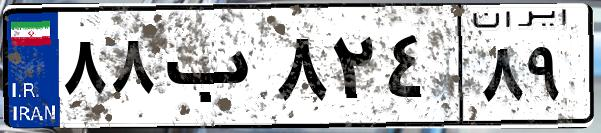2: (330, 28, 385, 110)
4: (385, 28, 445, 110)
8: (270, 28, 330, 110), (57, 26, 110, 100), (475, 38, 525, 113), (110, 28, 158, 98)
9: (525, 38, 570, 115)
ب: (158, 20, 270, 120)
